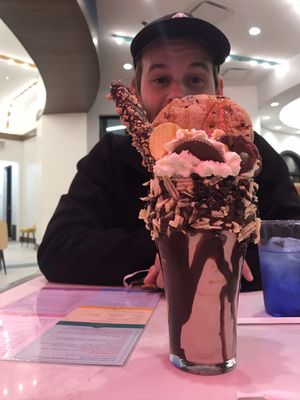curry: (1, 273, 298, 400)
soup: (155, 228, 246, 376)
